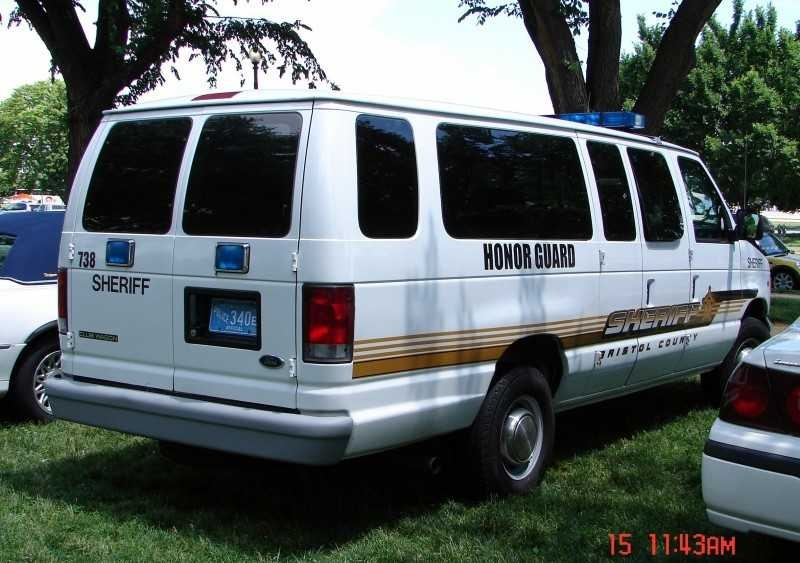Police Car: (44, 78, 766, 495)
